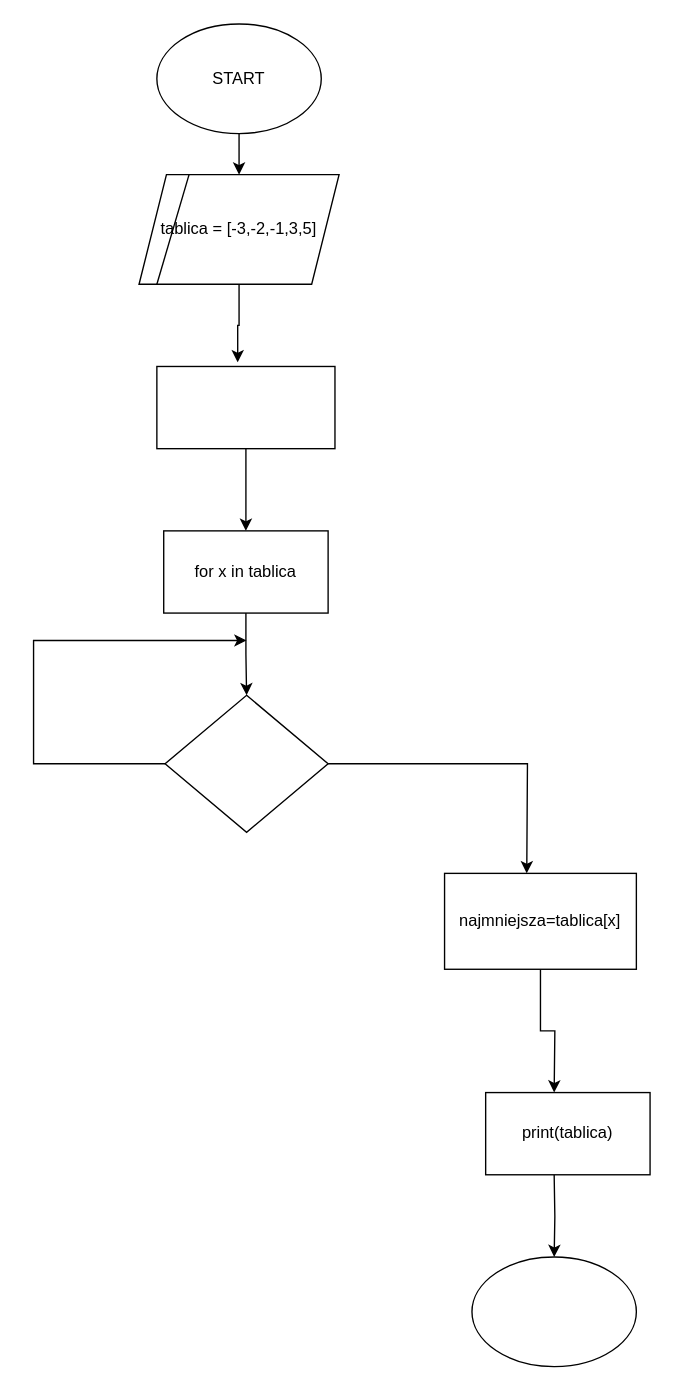
The diagram is 674 pixels wide and 1391 high, and some of its shapes have lost their labels. The centre of each missing label's shape, as x and y in pixels:
"if x<=najmniejsza" goes at point (246, 763).
"KONIEC" goes at point (553, 1311).
"najmniejsza=tablica[0]" goes at point (245, 407).
